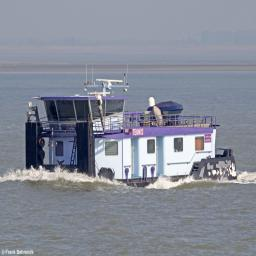tugboat: (24, 78, 240, 192)
